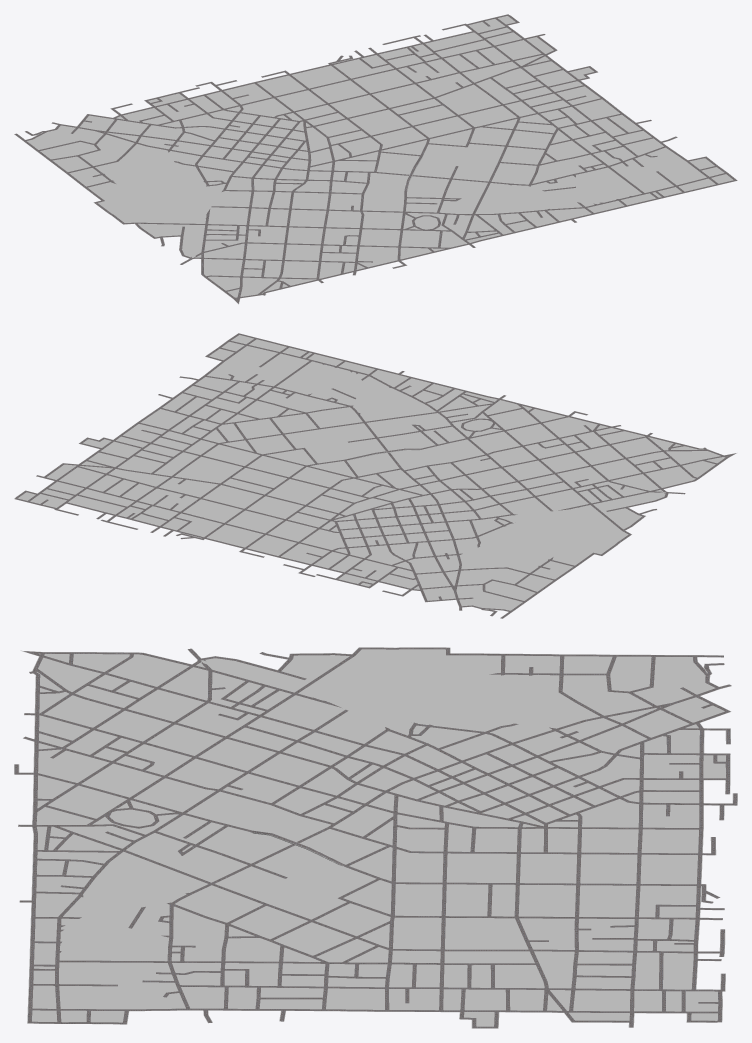
Rendered from auto-street.fbx.
3 renders of one model, top to bottom at view 1: azimuth 30°, elevation 25°; view 2: azimuth 150°, elevation 25°; view 3: azimuth 270°, elevation 25°, orthographic. The views are drawn at different scales.
Visible parts, largest first — view 1: Street; view 2: Street; view 3: Street.
Boxes of the visible parts, x1,y1,x2,y2 form: Street: (14,14,737,304); Street: (14,333,736,618); Street: (14,647,737,1028).
Size of the model in its own units: 30789 by 150 by 24697.
